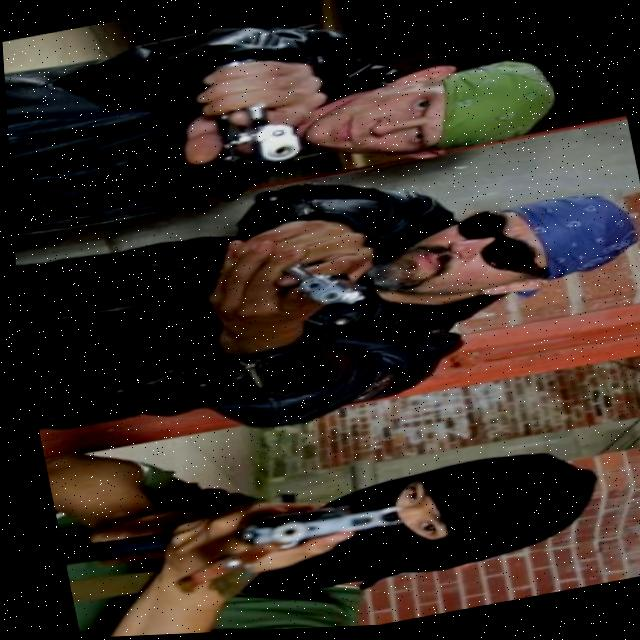firearm: (50, 475, 403, 587)
pistol: (207, 98, 304, 180), (276, 254, 367, 320)
